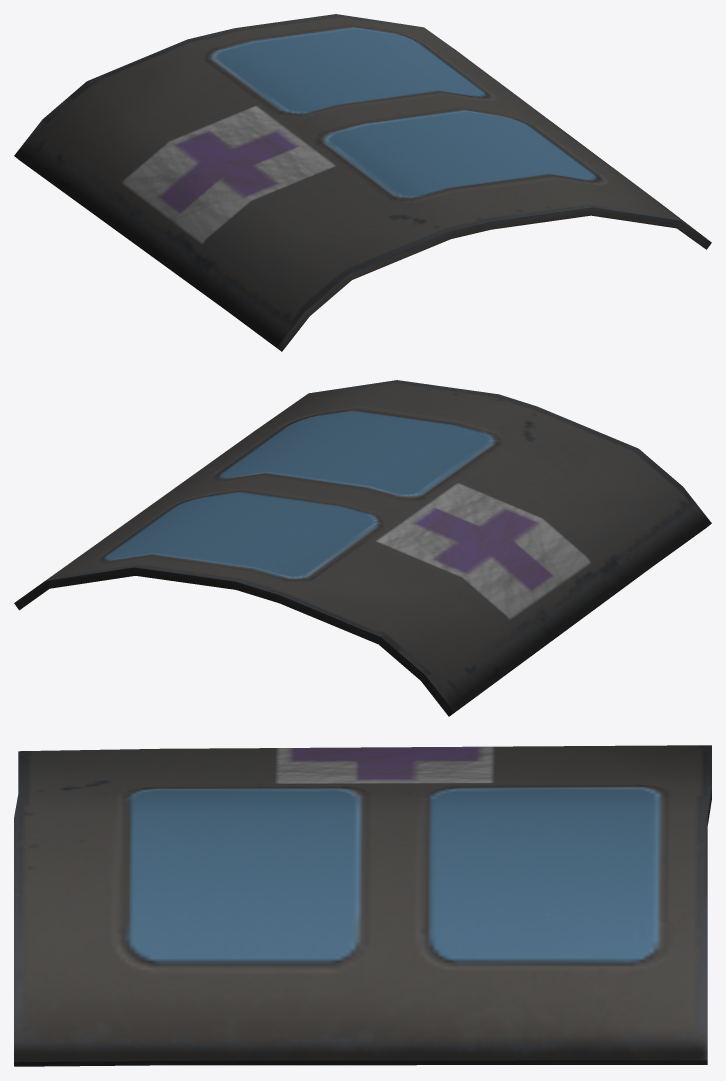
The model's file is UH60Door.fbx.
3 renders of one model, top to bottom at view 1: azimuth 30°, elevation 25°; view 2: azimuth 150°, elevation 25°; view 3: azimuth 270°, elevation 25°, orthographic. The views are drawn at different scales.
Visible parts, largest first — view 1: Cube.005; view 2: Cube.005; view 3: Cube.005.
Part boxes in pixels (bbox=[...]): Cube.005: bbox=[14, 14, 711, 351]; Cube.005: bbox=[14, 380, 711, 716]; Cube.005: bbox=[14, 745, 711, 1066].
Size of the model in its own units: 0.9037 by 0.1647 by 0.9291.
